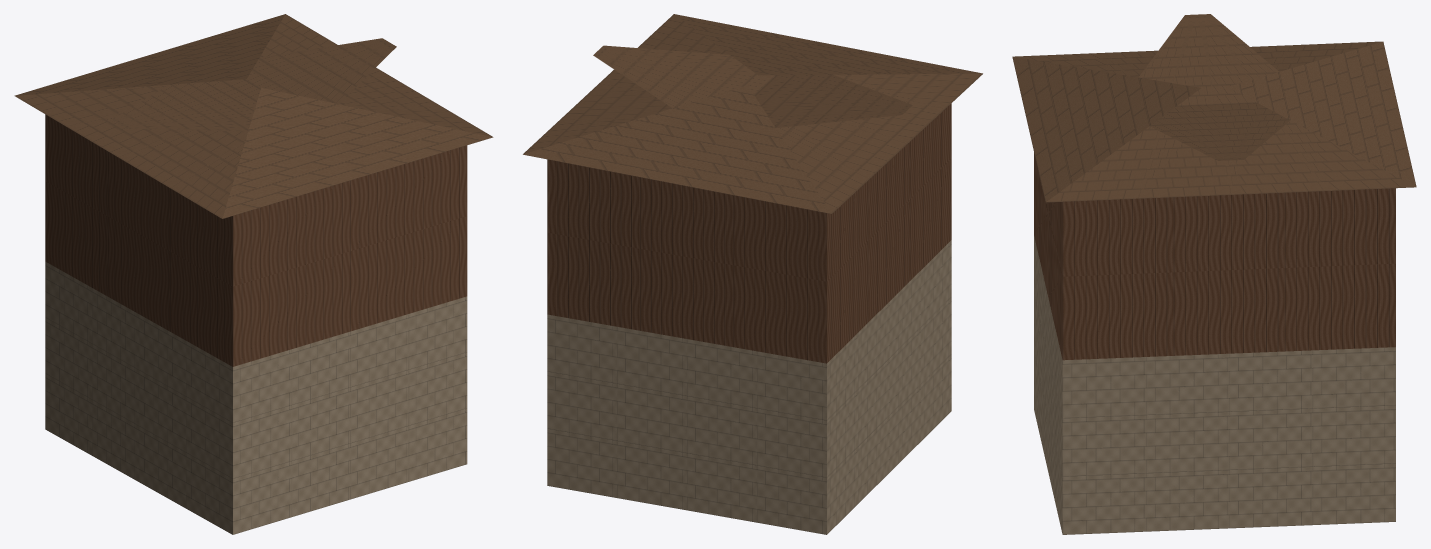
File: bld_c30_-25_539.gltf
The picture shows the model from 3 angles, left to right: view 1: azimuth 30°, elevation 25°; view 2: azimuth 150°, elevation 25°; view 3: azimuth 270°, elevation 25°; orthographic projection. The views are drawn at different scales.
Visible parts, largest first — view 1: bld_c30_-25_539; view 2: bld_c30_-25_539; view 3: bld_c30_-25_539.
Boxes of the visible parts, x1,y1,x2,y2 form: bld_c30_-25_539: (14, 14, 493, 534); bld_c30_-25_539: (523, 14, 982, 534); bld_c30_-25_539: (1012, 14, 1416, 534).
Bounding box in the file's own units: 10.01 × 10.9 × 10.62.
3 materials, 3 textured.
